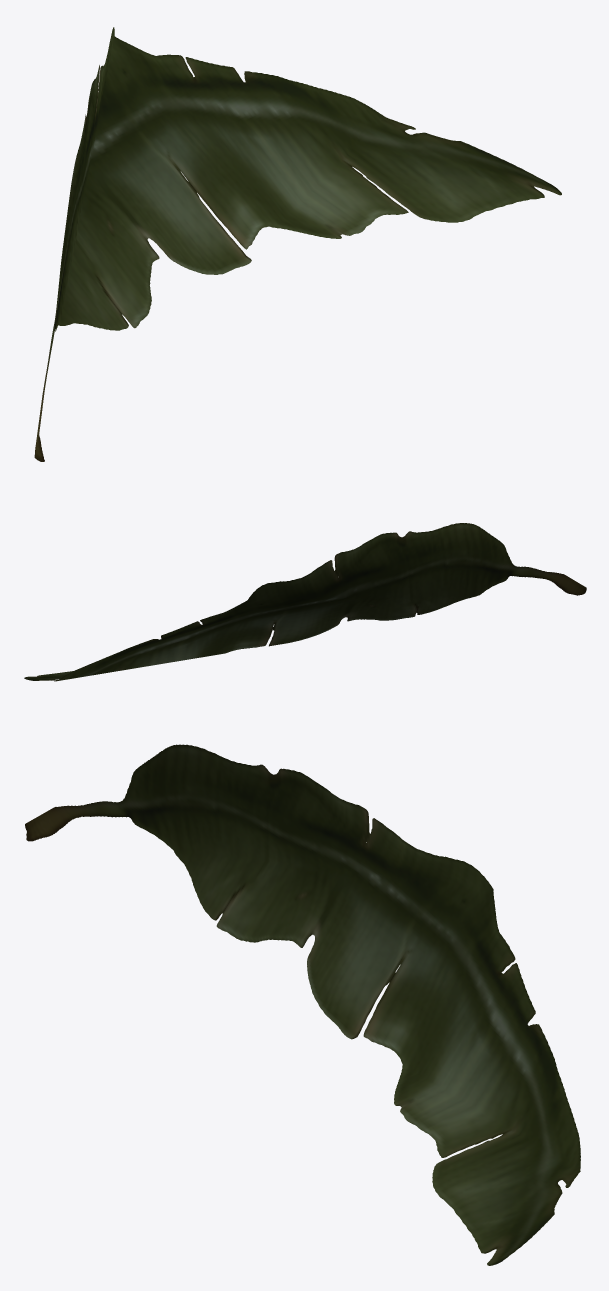
Rendered from MEP_Palm_Part_02_S.fbx.
3 views of the same model, one above another, from view 1: azimuth 30°, elevation 25°; view 2: azimuth 150°, elevation 25°; view 3: azimuth 270°, elevation 25° (orthographic). The views are drawn at different scales.
Parts seen in each view (by area): view 1: MEP_Palm_Part_02_S; view 2: MEP_Palm_Part_02_S; view 3: MEP_Palm_Part_02_S.
Part boxes in pixels (x1,y1,x2,y2): MEP_Palm_Part_02_S: [34, 27, 561, 461]; MEP_Palm_Part_02_S: [24, 523, 586, 681]; MEP_Palm_Part_02_S: [25, 744, 580, 1265].
Bounding box in the file's own units: 1.2 × 0.5319 × 0.9065.
